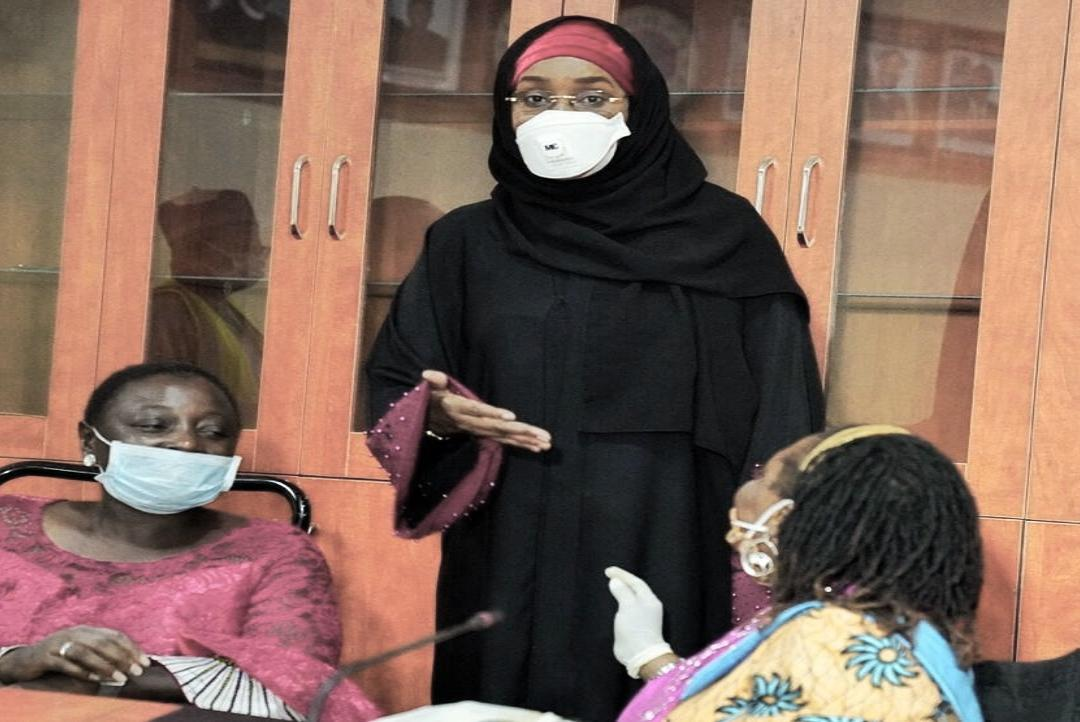mask_weared_incorrect: (78, 364, 243, 517)
